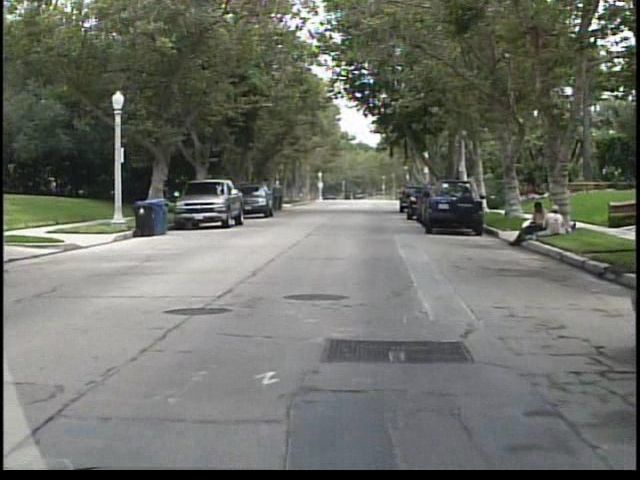person: (511, 201, 551, 249), (539, 205, 565, 235)
